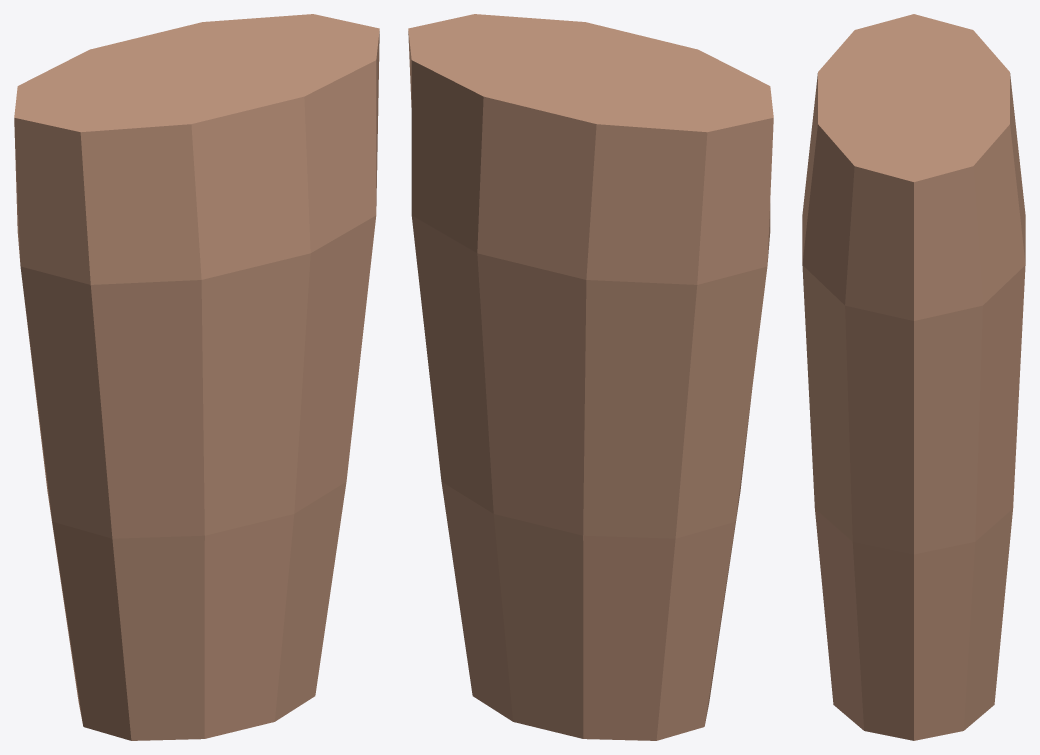
The model's file is wk_buck_standard_torso_v01.glb.
The picture shows the model from 3 angles, left to right: view 1: azimuth 30°, elevation 25°; view 2: azimuth 150°, elevation 25°; view 3: azimuth 270°, elevation 25°; orthographic projection. The views are drawn at different scales.
Visible parts, largest first — view 1: GEO_Torso.001; view 2: GEO_Torso.001; view 3: GEO_Torso.001.
Boxes of the visible parts, bbox=[...] form: GEO_Torso.001: bbox=[14, 14, 379, 740]; GEO_Torso.001: bbox=[408, 14, 773, 740]; GEO_Torso.001: bbox=[802, 14, 1025, 740].
Bounding box in the file's own units: 0.611 × 1 × 0.3424.
